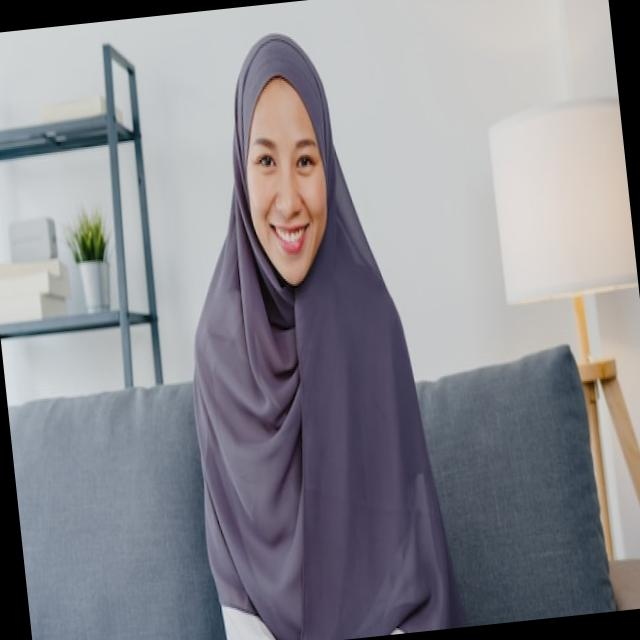Person: (154, 17, 469, 640)
